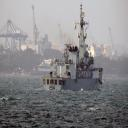Fragata: (42, 2, 106, 94)
